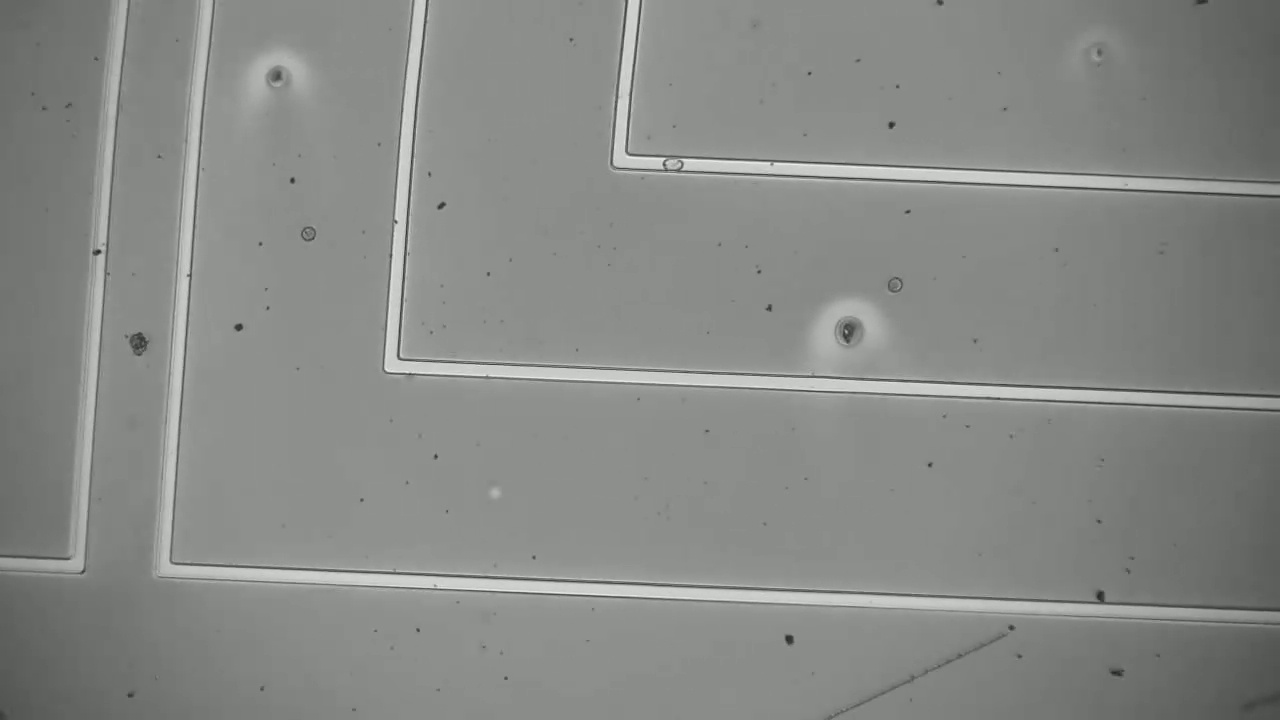scratch: (826, 628, 1008, 719)
stains_enbedded: (652, 137, 696, 192)
